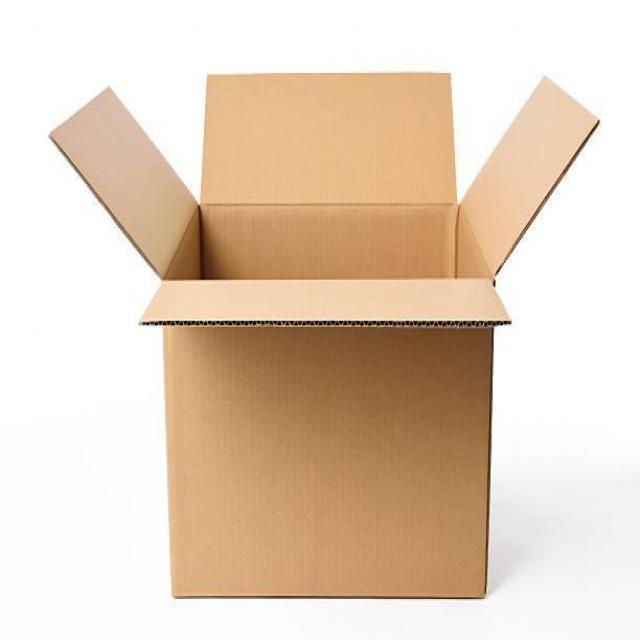box: (51, 64, 600, 608)
